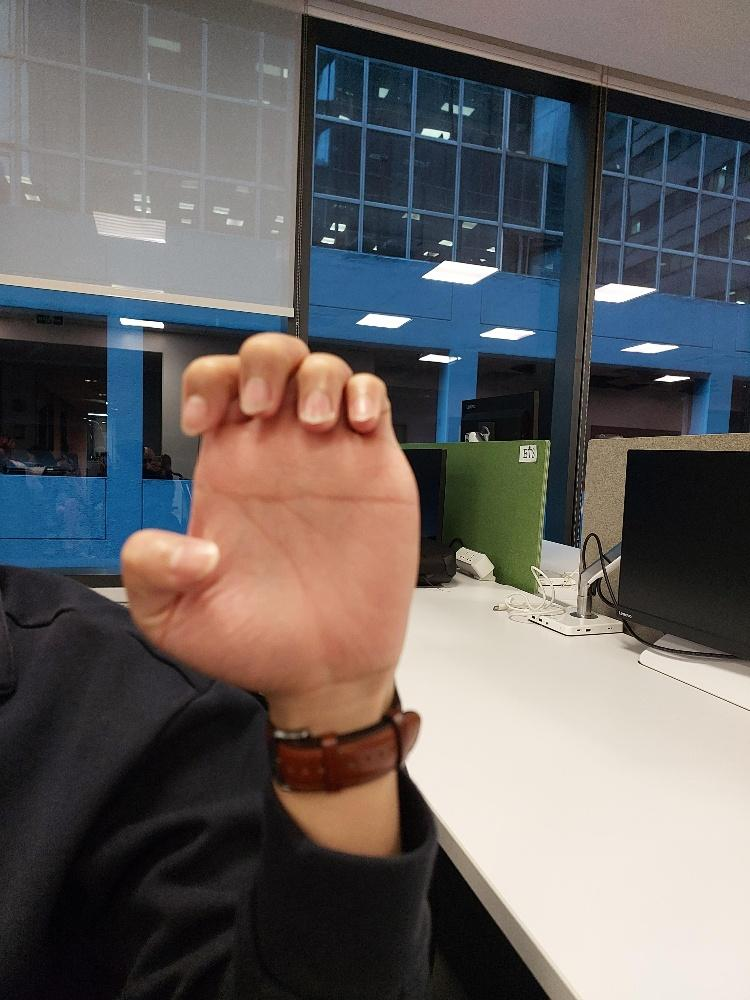e: (120, 329, 417, 687)
